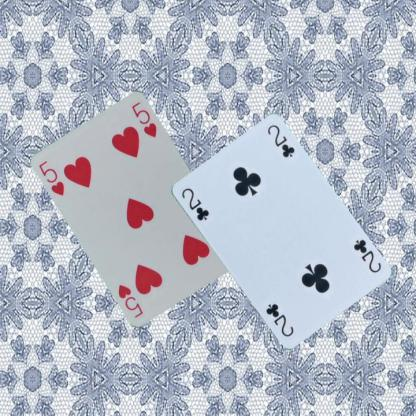2c: (350, 236, 383, 274), (178, 185, 210, 222)
5h: (36, 158, 66, 197)
